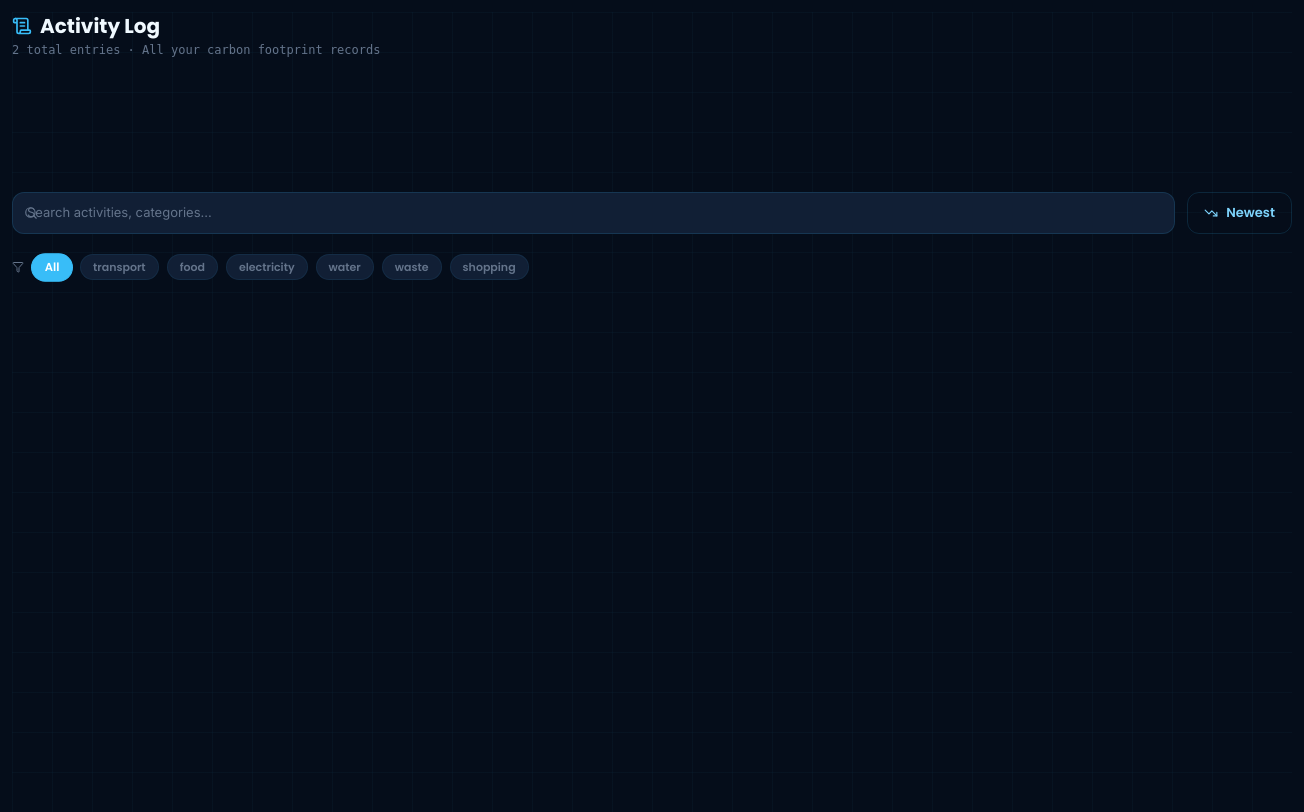
Scenario: LogsTab › filters logs by category
Click the button with aria-label "Filter by water" at (345, 267), box [316,254,374,280]
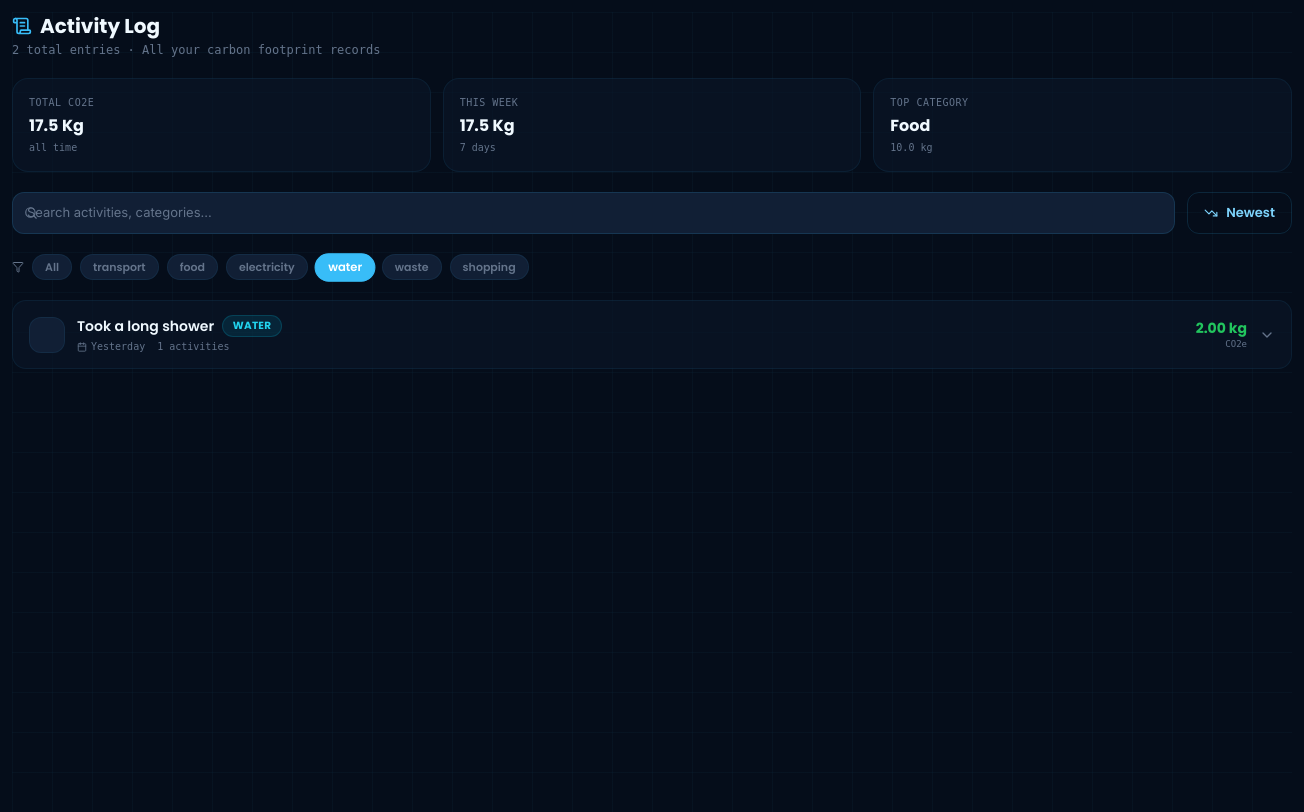
Check: the text "Took a long shower" is shown, box [77,316,214,336]
